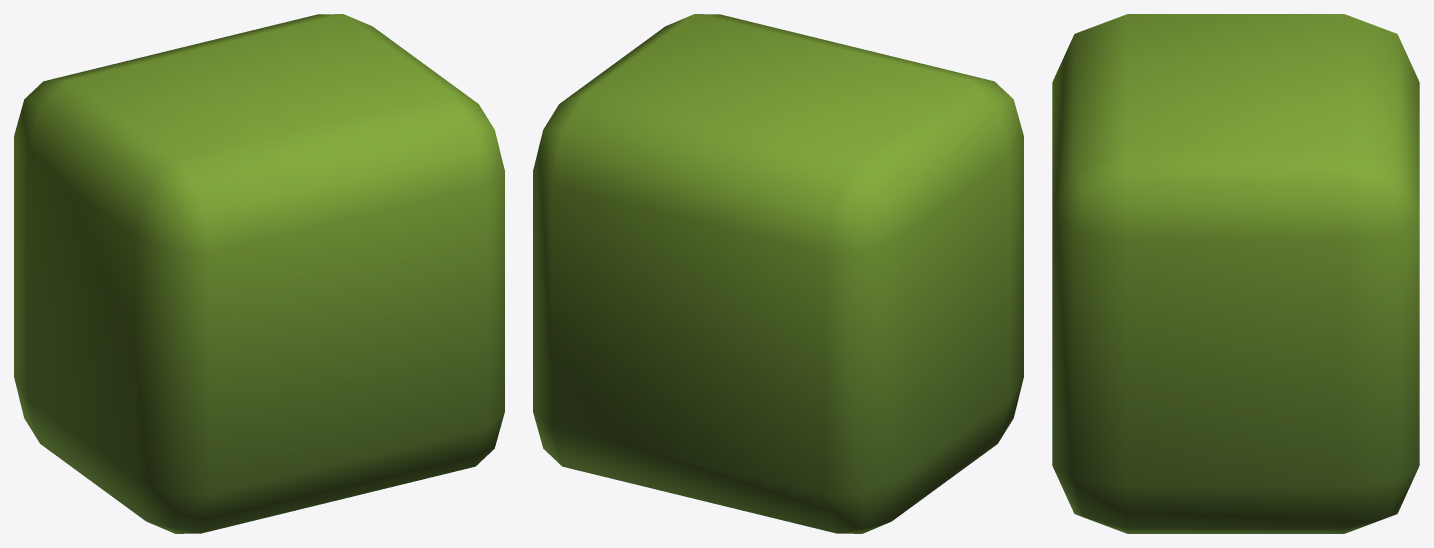
Rendered from Bush+2.fbx.
The picture shows the model from 3 angles, left to right: view 1: azimuth 30°, elevation 25°; view 2: azimuth 150°, elevation 25°; view 3: azimuth 270°, elevation 25°; orthographic projection. The views are drawn at different scales.
Parts seen in each view (by area): view 1: Bush 2; view 2: Bush 2; view 3: Bush 2.
Part boxes in pixels (<box>): Bush 2: <box>14,14,504,533</box>; Bush 2: <box>533,14,1023,533</box>; Bush 2: <box>1052,14,1419,533</box>.
Bounding box in the file's own units: 43.62 × 43.87 × 38.08.
